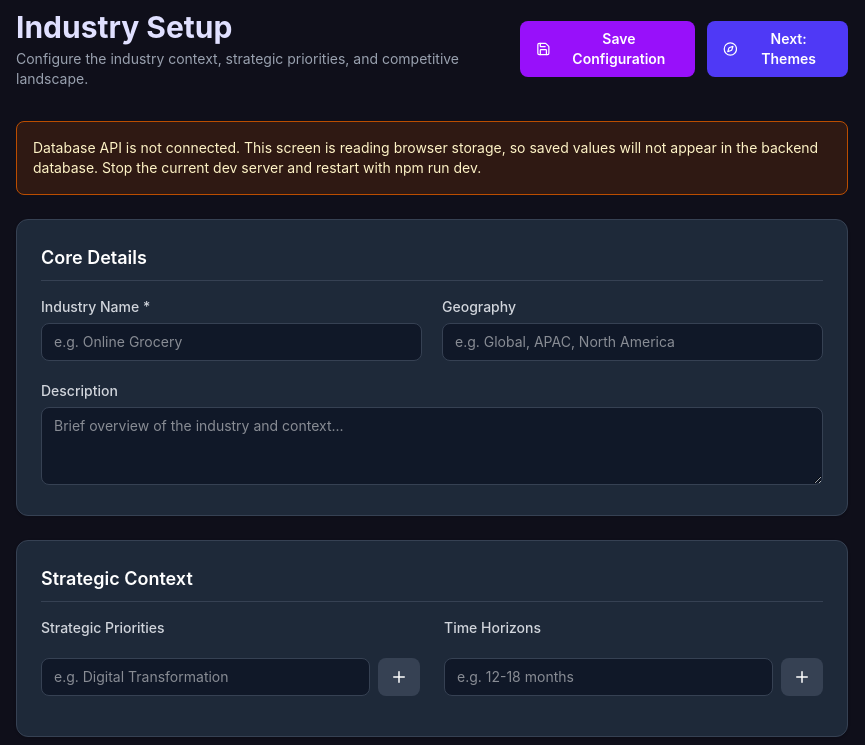
IndustrySetup component › allows adding a strategic priority
Type "Priority 1" into the field named "add-Strategic Priorities" at (206,677), box [41,658,370,696]
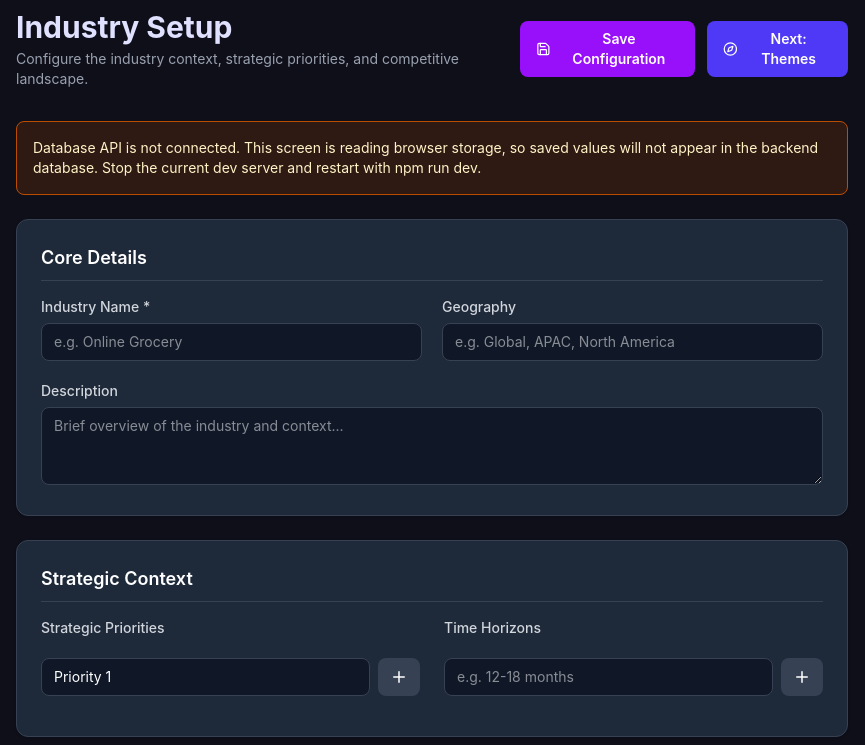
Click the button named "add-Strategic Priorities-button" at (399,677), box [378,658,420,696]
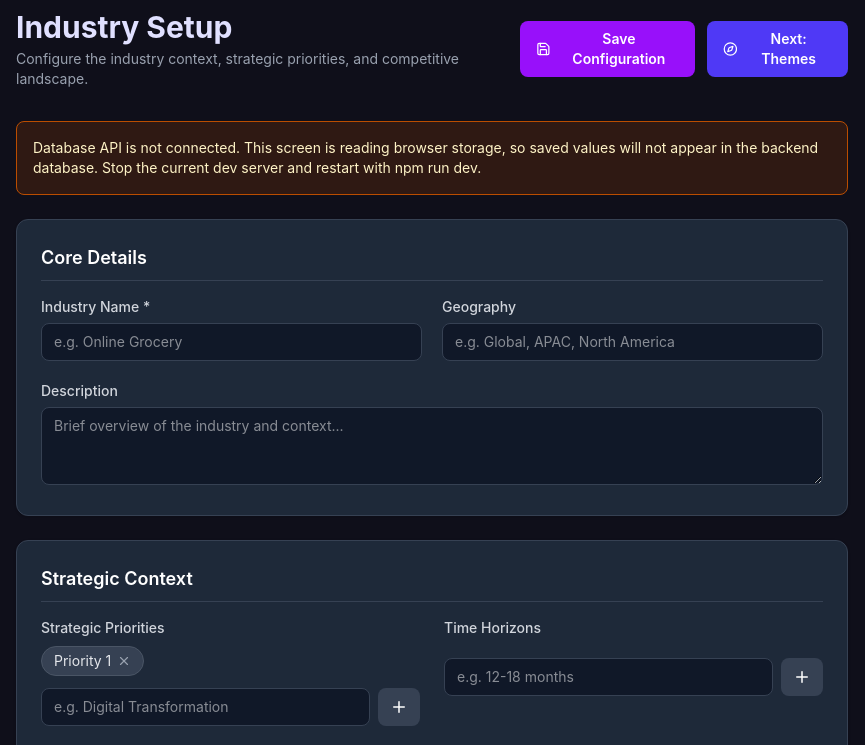
Result: the text "Priority 1" is shown at [41,646,144,676]
